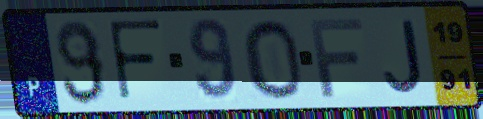9: (54, 18, 109, 107), (185, 15, 239, 105)
F: (105, 18, 166, 106), (306, 16, 366, 100)
J: (381, 17, 426, 96)
O: (239, 17, 306, 101)
